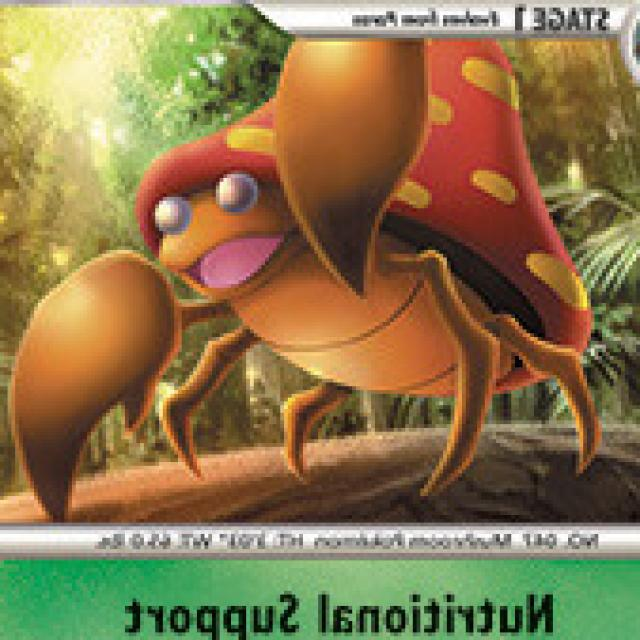Parasect: (121, 39, 580, 438)
